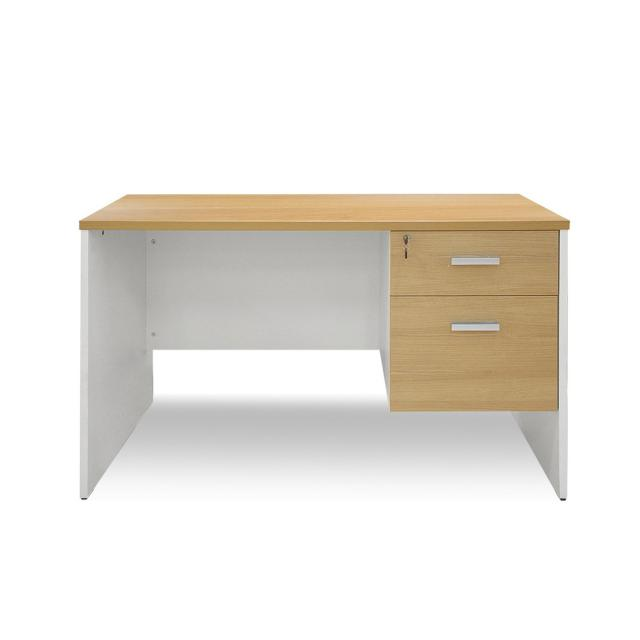table: (58, 174, 602, 537)
